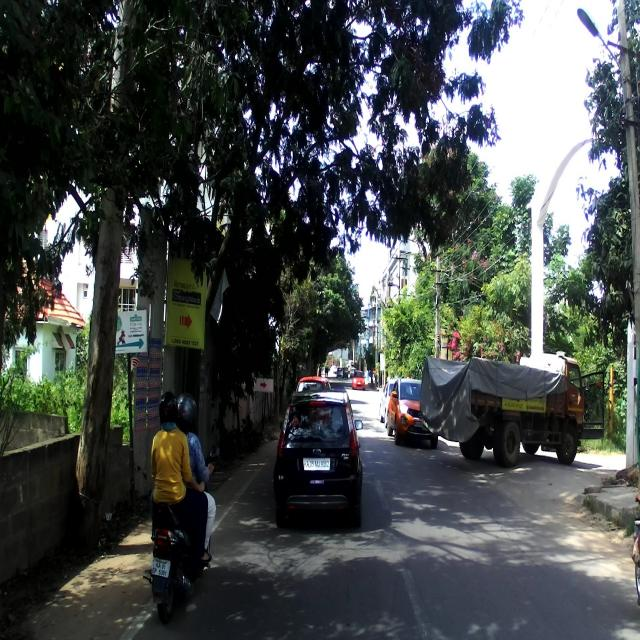car: (273, 388, 367, 532)
scooter: (140, 432, 224, 620)
truck: (423, 349, 585, 464)
